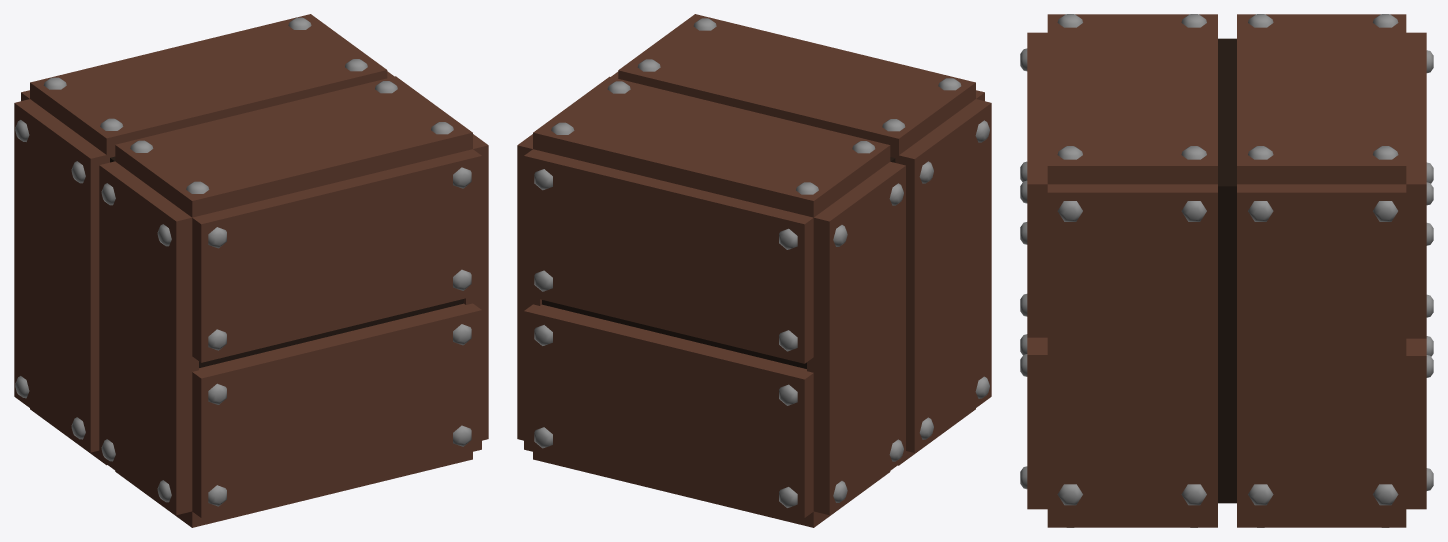
The picture shows the model from 3 angles, left to right: view 1: azimuth 30°, elevation 25°; view 2: azimuth 150°, elevation 25°; view 3: azimuth 270°, elevation 25°; orthographic projection. The views are drawn at different scales.
Visible parts, largest first — view 1: Plane, Cube; view 2: Plane, Cube; view 3: Plane, Cube.
Part boxes in pixels (bbox=[...]): Plane: bbox=[14, 14, 488, 527]; Cube: bbox=[110, 156, 463, 367]; Plane: bbox=[517, 14, 991, 527]; Cube: bbox=[542, 157, 895, 368]; Plane: bbox=[1020, 14, 1433, 527]; Cube: bbox=[1218, 38, 1236, 503].
Size of the model in its own units: 103 by 103 by 103.
